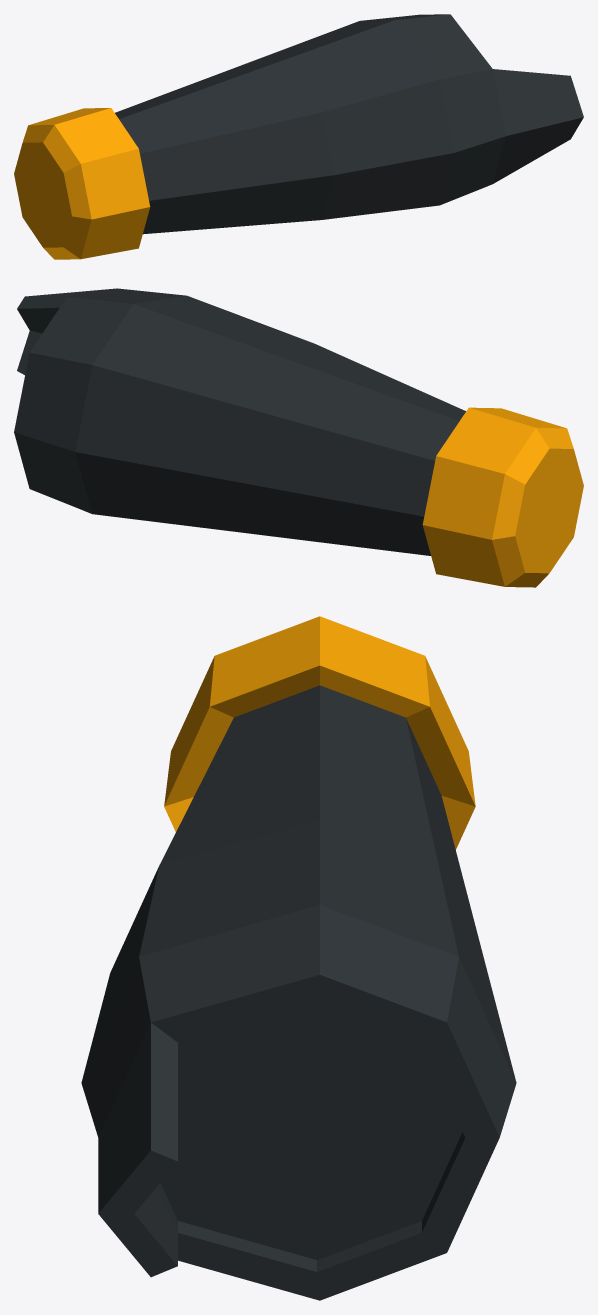
Rendered from goblin_hand_armor_left.fbx.
3 renders of one model, top to bottom at view 1: azimuth 30°, elevation 25°; view 2: azimuth 150°, elevation 25°; view 3: azimuth 270°, elevation 25°, orthographic. The views are drawn at different scales.
Visible parts, largest first — view 1: goblin_arm_armor; view 2: goblin_arm_armor; view 3: goblin_arm_armor.
Part boxes in pixels (x1,y1,x2,y2): goblin_arm_armor: (14,14,583,259); goblin_arm_armor: (14,288,583,587); goblin_arm_armor: (81,616,516,1300).
Size of the model in its own units: 183 by 64.37 by 71.21.
Materials: 1 (1 with a texture image).
